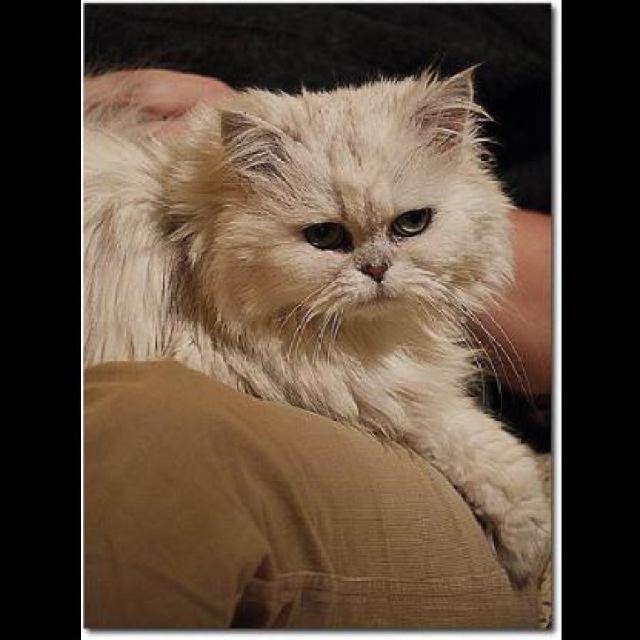unauthorized: (83, 60, 551, 592)
